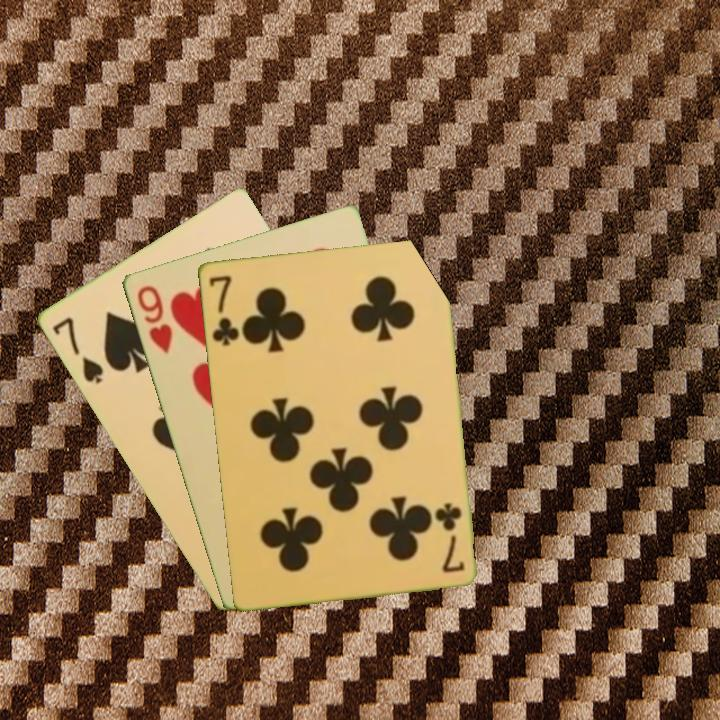7c: (205, 271, 242, 349), (433, 499, 467, 576)
7s: (48, 313, 106, 387)
9h: (133, 281, 175, 356)
